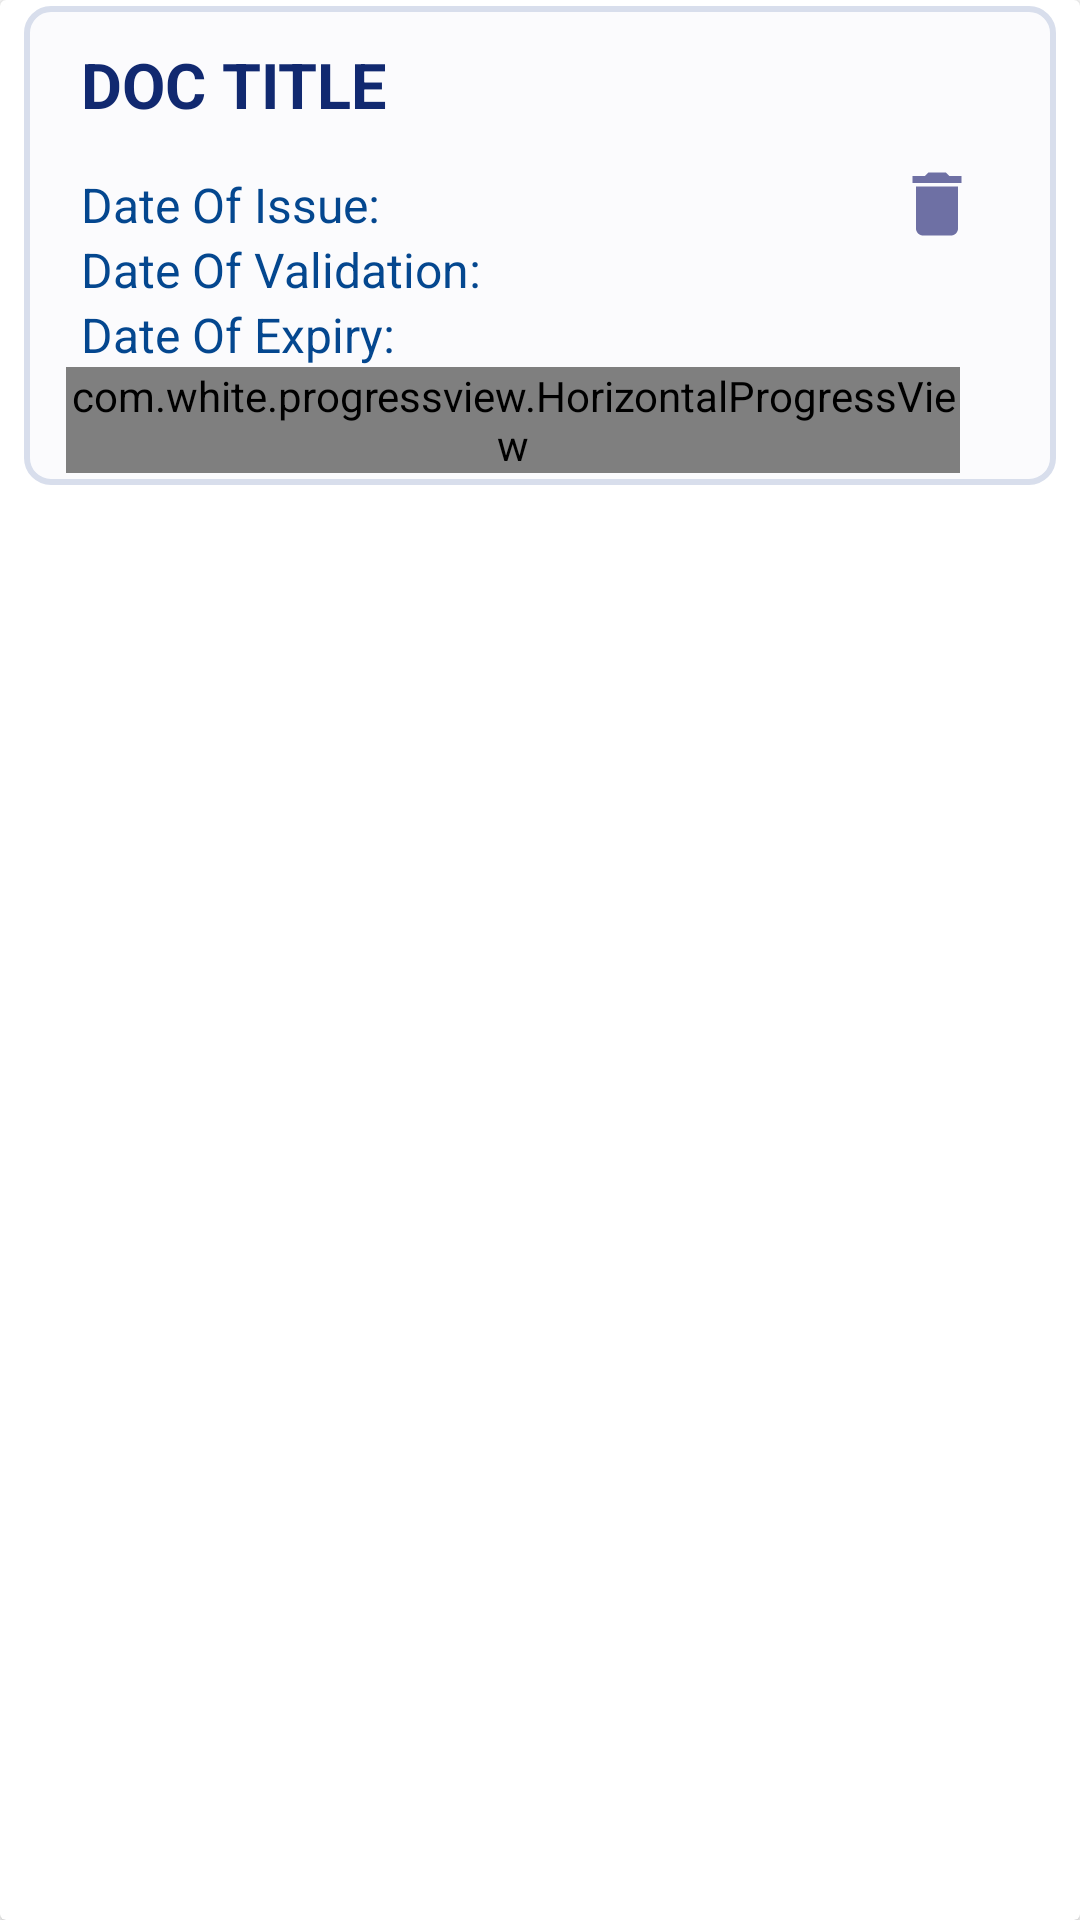

Icons on this 1080x1920 Android screen, each with its box as (x1, y1, x2, y2):
delete: (912, 172, 962, 236)
